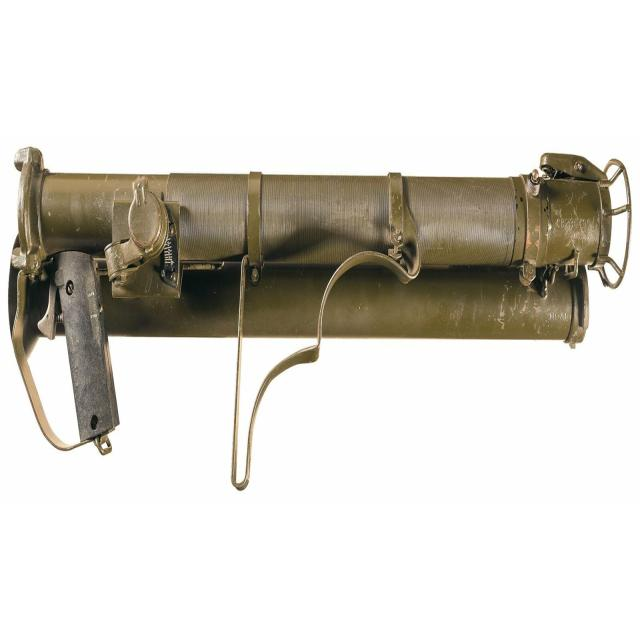bazooka: (10, 98, 640, 518)
